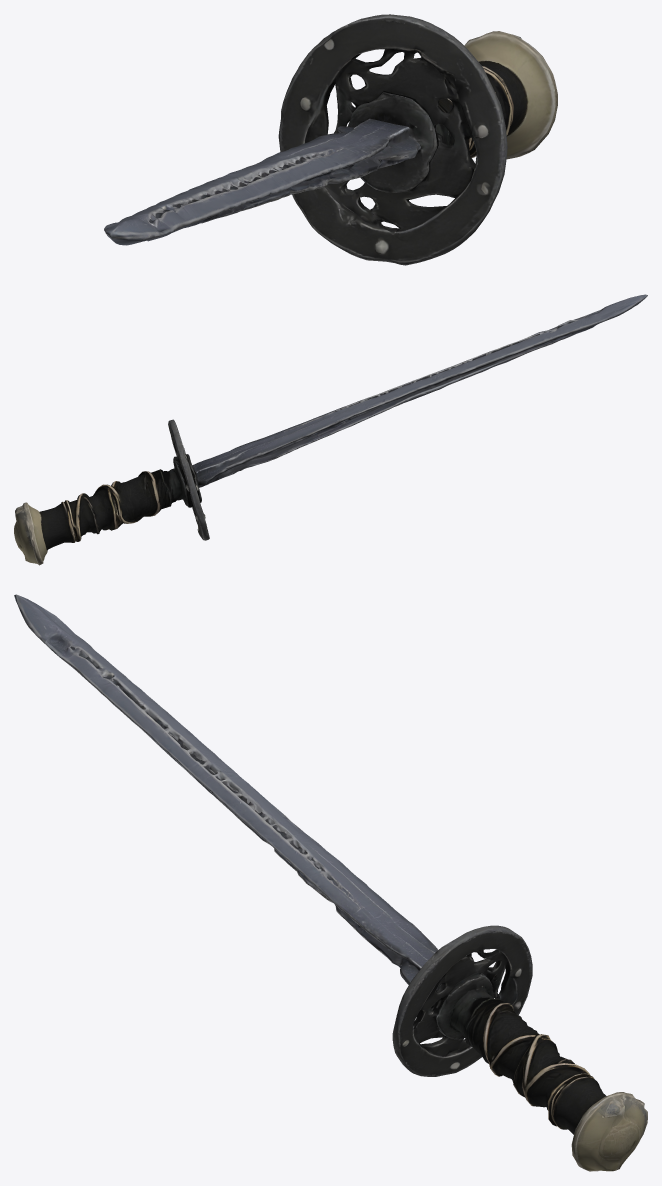
File: sol_mod_sword_sabre.glb
3 renders of one model, top to bottom at view 1: azimuth 30°, elevation 25°; view 2: azimuth 150°, elevation 25°; view 3: azimuth 270°, elevation 25°, orthographic. The views are drawn at different scales.
Visible parts, largest first — view 1: tripo_node_81bc0e33-6d84-4263-a1fc-5a5c7ea78fe1; view 2: tripo_node_81bc0e33-6d84-4263-a1fc-5a5c7ea78fe1; view 3: tripo_node_81bc0e33-6d84-4263-a1fc-5a5c7ea78fe1.
Part boxes in pixels (left/top/right/bottom): tripo_node_81bc0e33-6d84-4263-a1fc-5a5c7ea78fe1: left=104, top=14, right=557, bottom=265; tripo_node_81bc0e33-6d84-4263-a1fc-5a5c7ea78fe1: left=14, top=294, right=647, bottom=565; tripo_node_81bc0e33-6d84-4263-a1fc-5a5c7ea78fe1: left=14, top=594, right=647, bottom=1171.
Bounding box in the file's own units: 1 × 0.4805 × 0.9191.
Materials: 1 (1 with a texture image).
